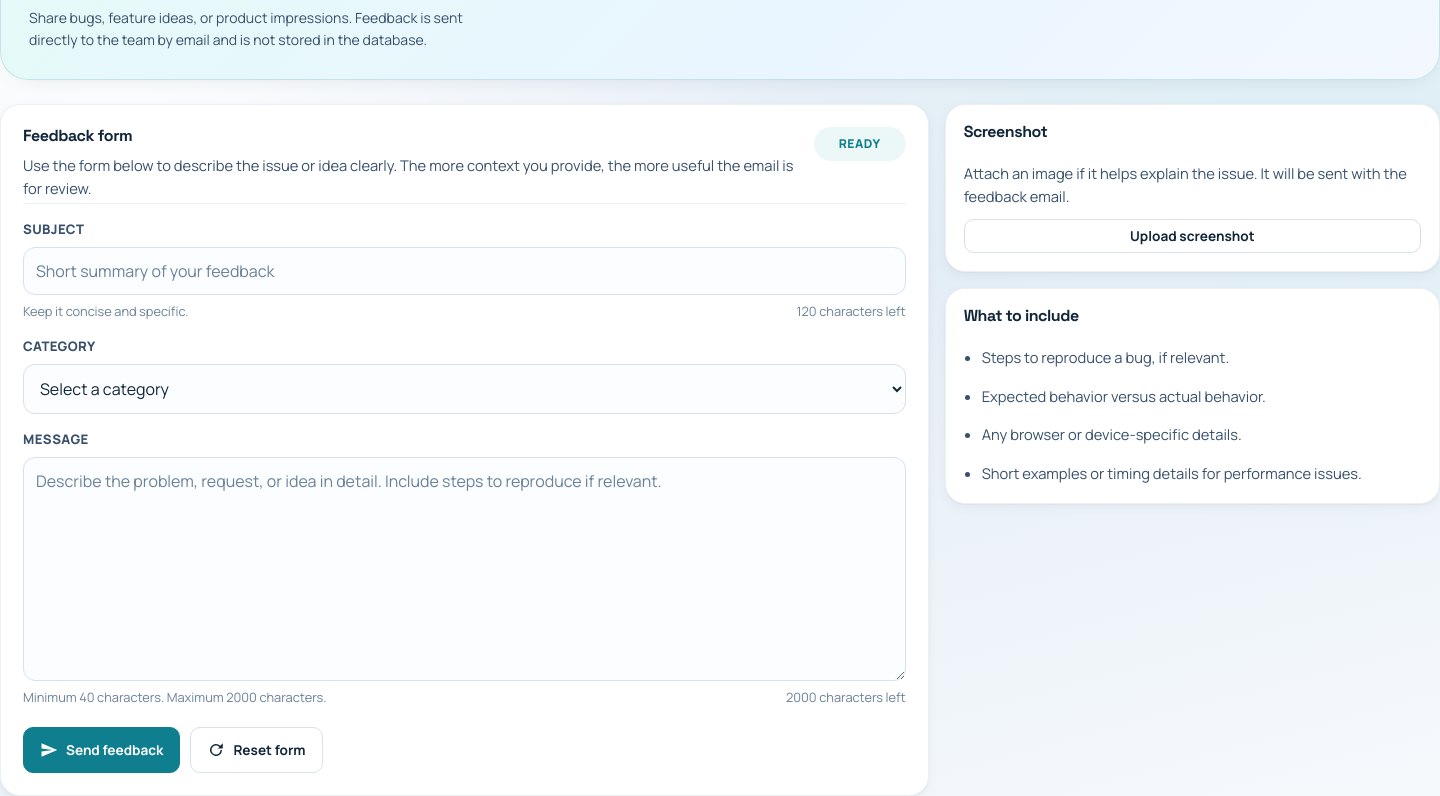
Test: FeedbackPage › shows validation errors when required fields are missing
The image size is (1440, 796).
(page scrolled)
Click the button "Send feedback" at point(102, 750), box [23,727,180,773]
(page scrolled)
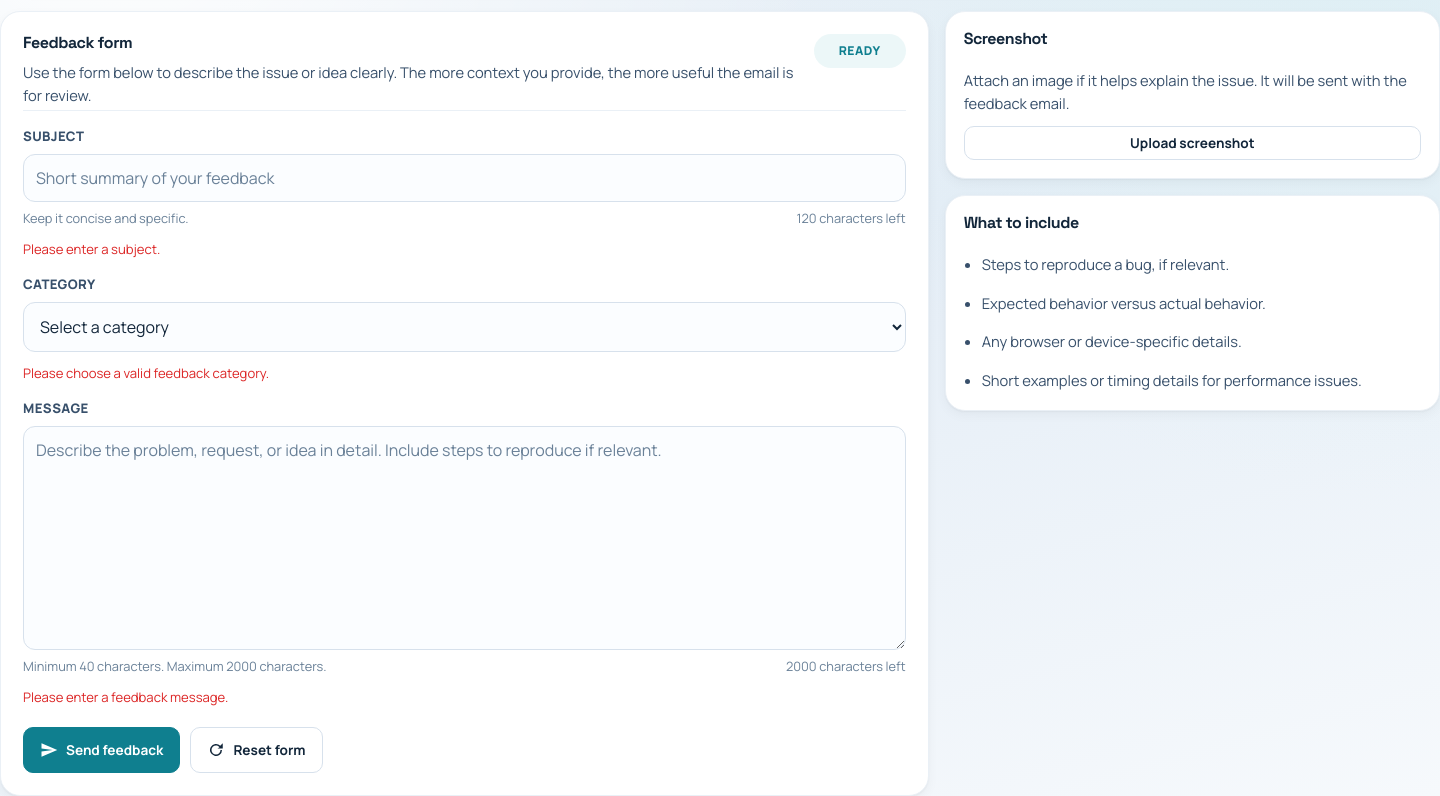
Result: the text "Please enter a subject." is shown at [23,240,160,258]
Result: the text "Please choose a valid feedback category." is shown at [23,364,269,382]
Result: the text "Please enter a feedback message." is shown at [23,688,228,706]
